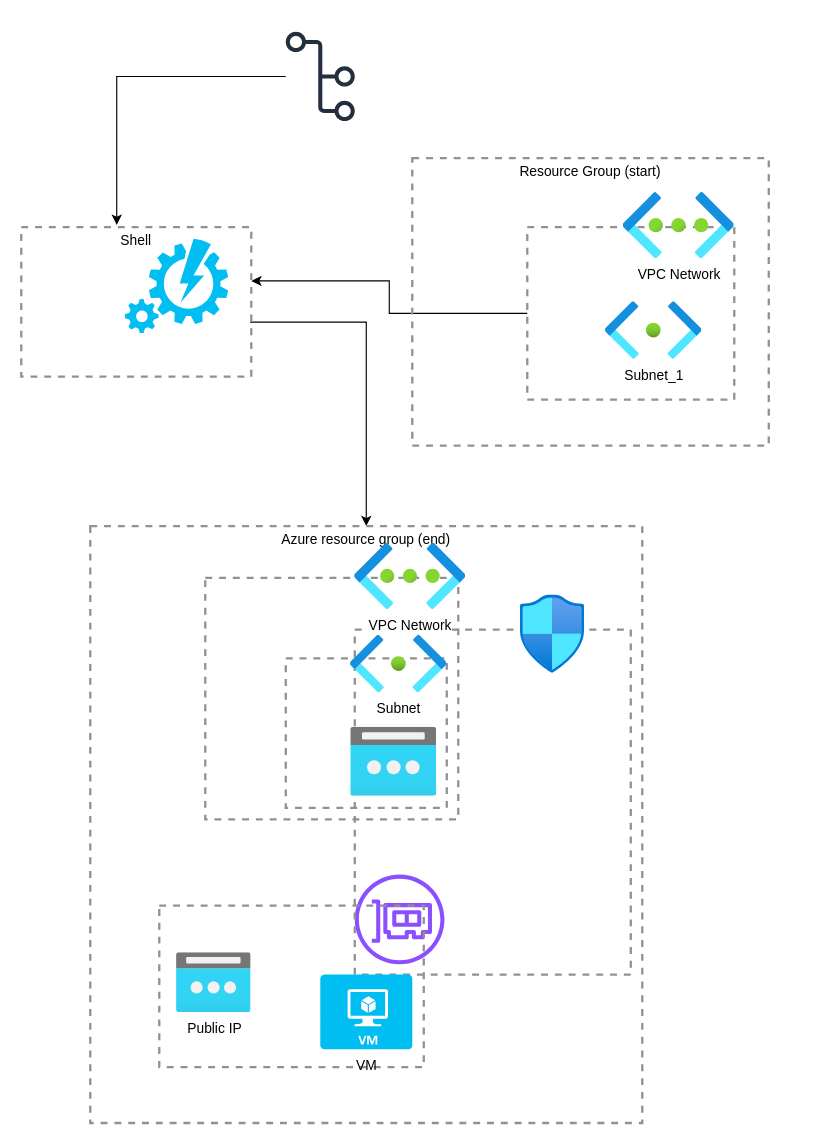
Image size: 822x1143. Some labels were removed from this diagram. The box of each missing label's shape, as (x1, y1, x2, y2) in pixels:
GitHub Resource: (285, 31, 354, 121)
Network interface: (158, 904, 424, 1068)
NSG: (353, 628, 631, 975)
Private IP: (350, 727, 436, 796)
Terraform automation: (124, 238, 228, 332)
